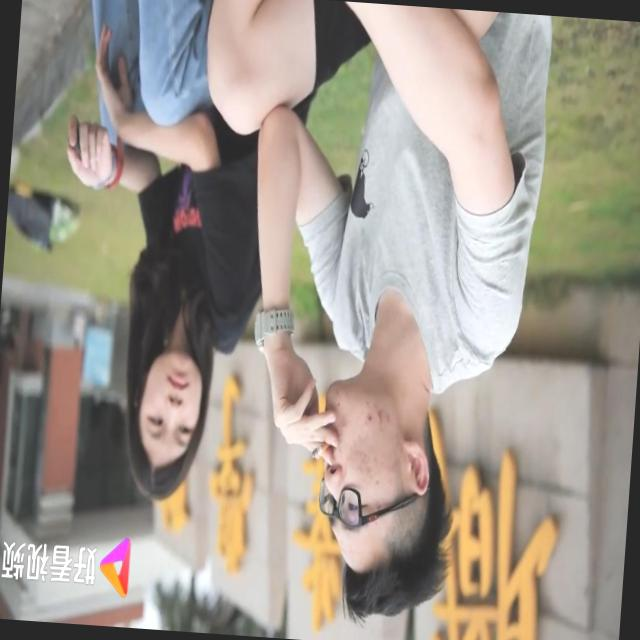smoke: (306, 425, 336, 469)
